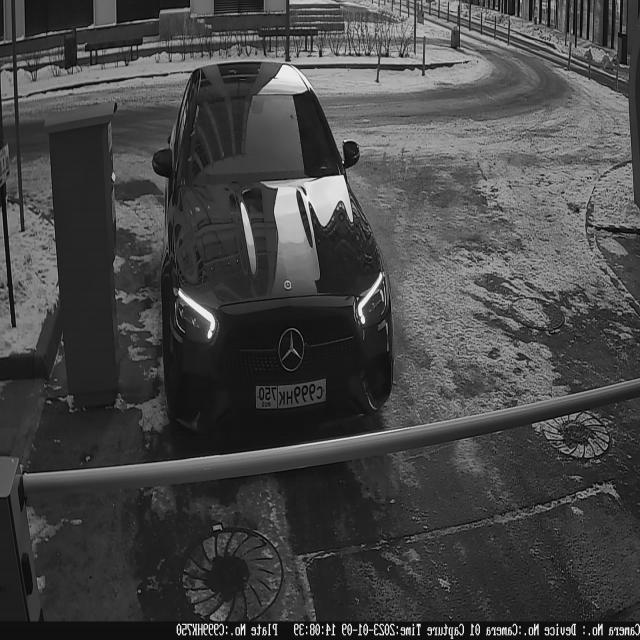car-plate-numbers: (254, 374, 330, 416)
